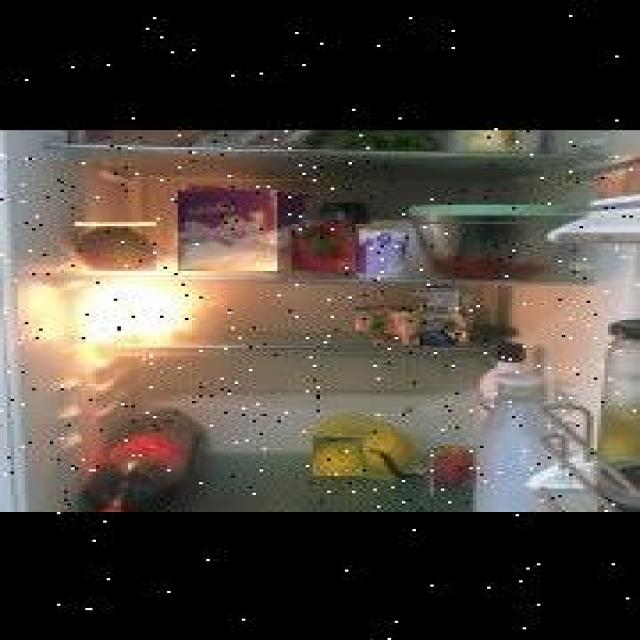apple: (432, 447, 475, 494)
bell_pepper: (292, 220, 356, 271)
garlic: (374, 312, 419, 342)
grated_cheese: (180, 188, 279, 269)
guacamole: (356, 305, 391, 329)
heavy_cream: (414, 286, 471, 343), (68, 128, 135, 145)
lemon: (313, 435, 363, 474)
mango: (75, 222, 156, 269)
salad: (331, 128, 441, 147)
yogurt: (357, 226, 407, 277)
